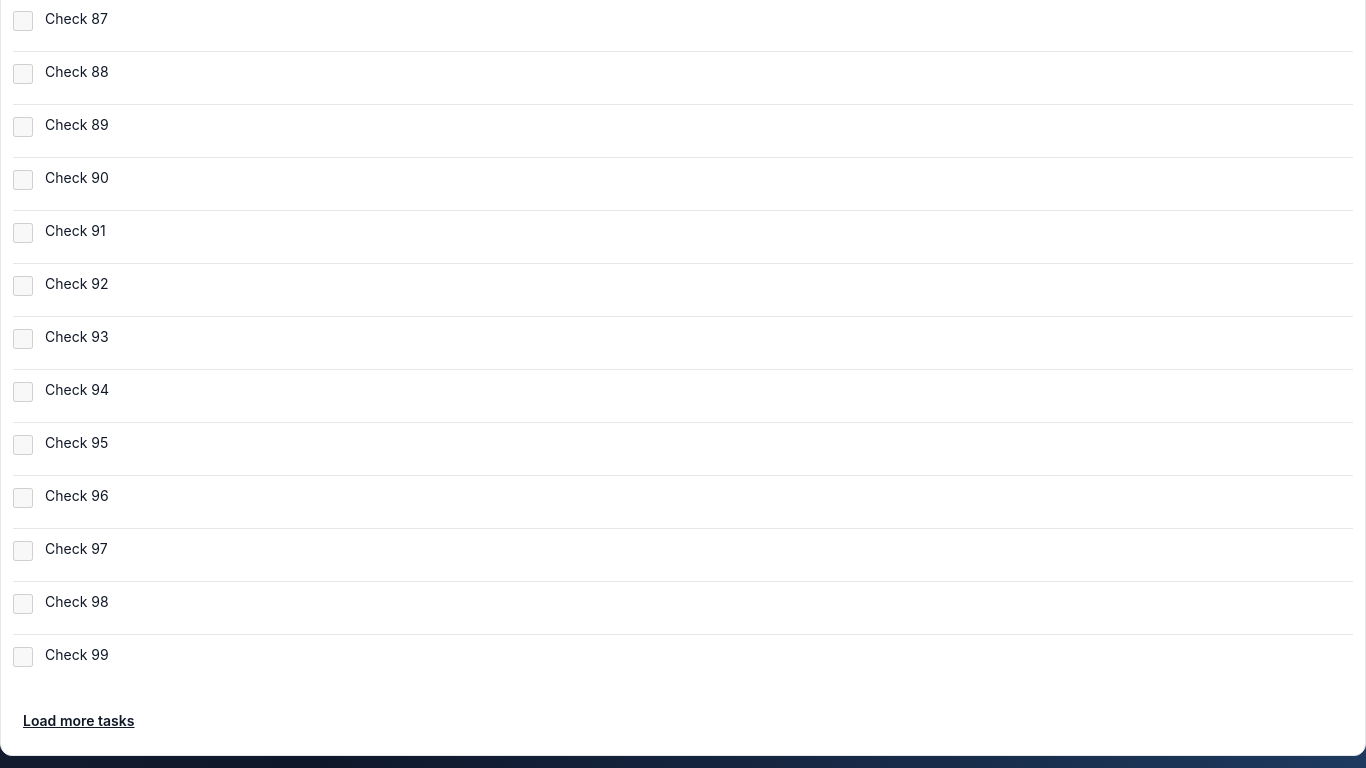
Test case: persisted work checklists › shows complete-scope counts while paging and distinguishes optional/frozen work
The image size is (1366, 768).
(page scrolled)
Click the button "Load more tasks" at (79, 721), box [13,699,144,743]
(page scrolled)
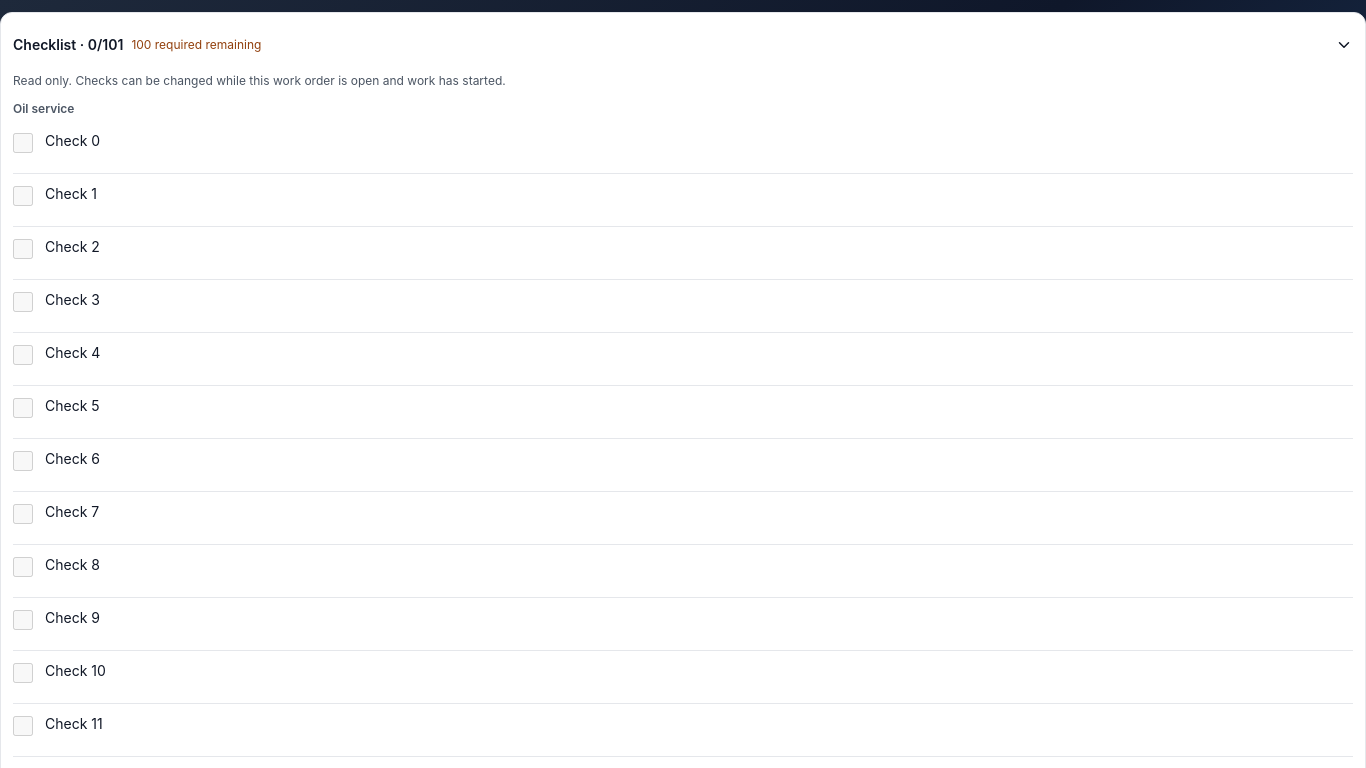
Expected: the text "Checklist · 0/101" is shown, [13,35,123,55]
Expected: the button "Load more tasks" is gone
